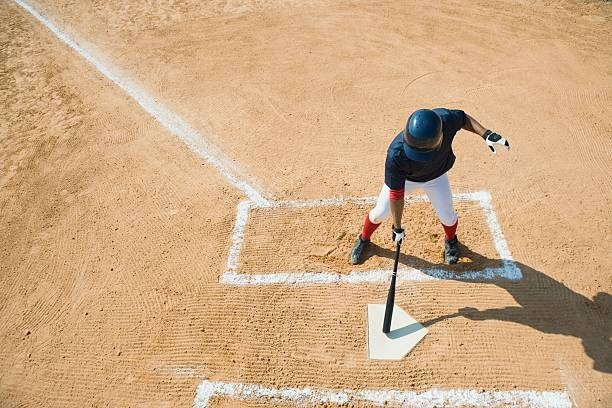bita: (381, 226, 409, 334)
